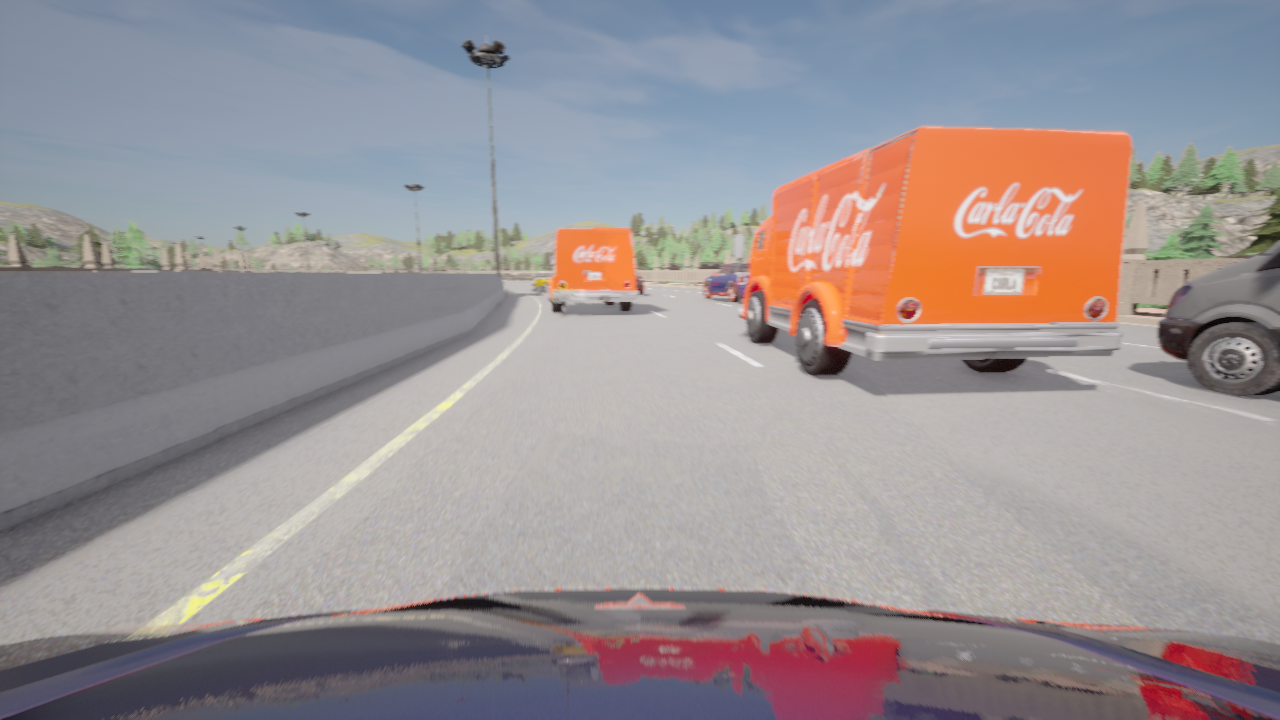cyclist: (0, 588, 1279, 719), (732, 126, 1132, 376), (1158, 241, 1279, 396), (548, 228, 637, 312), (702, 262, 750, 302), (532, 271, 553, 292), (634, 270, 644, 295)
